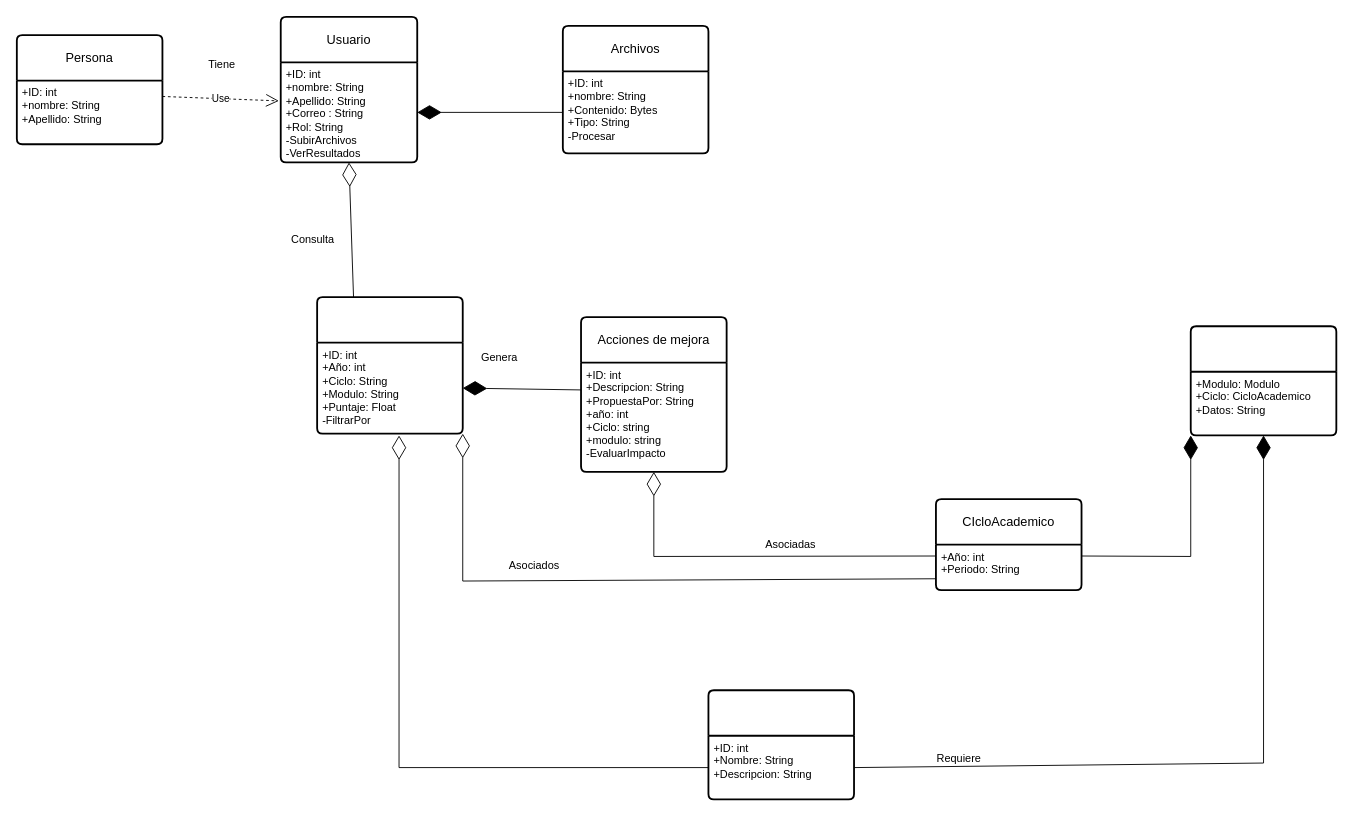
The diagram is 1352 pixels wide and 815 high, and some of its shapes have lost their labels. Here are the shapes that lost their labels. From the top down, the box of each, then its label:
(316, 296, 463, 434): Resultados
(1189, 325, 1337, 436): AnalisisEstadistico
(707, 689, 854, 800): Modulo
